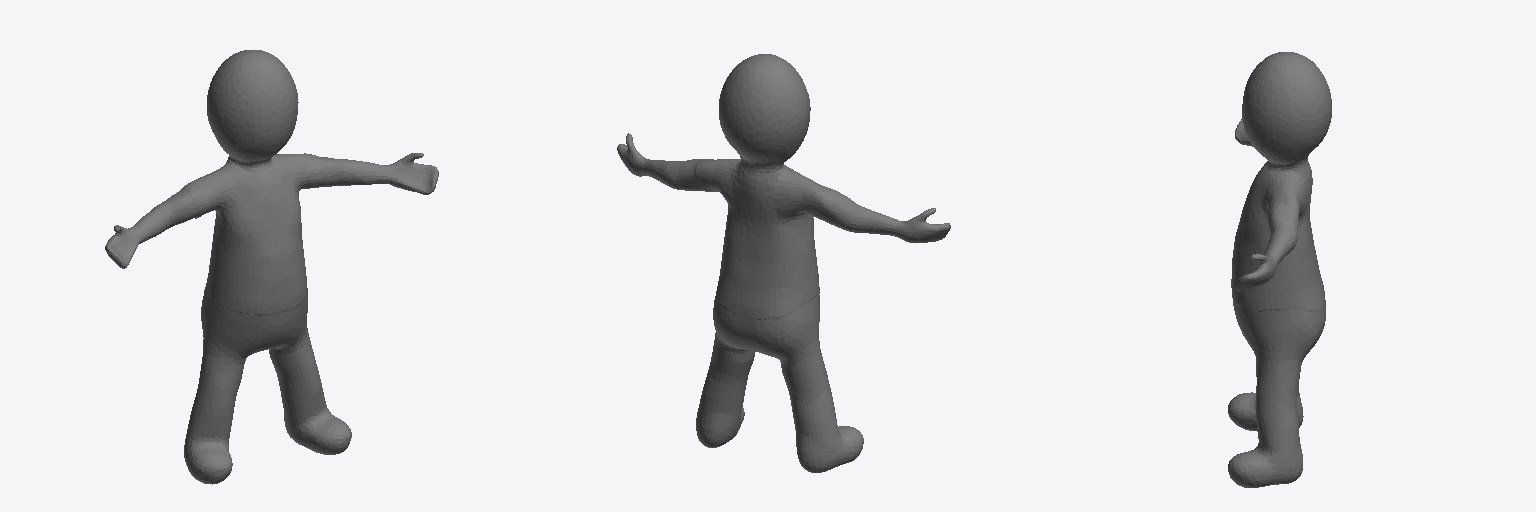
Rendered from Stick_Figure_by_Swp2.OBJ.
3 renders of one model, left to right at view 1: azimuth 30°, elevation 25°; view 2: azimuth 150°, elevation 25°; view 3: azimuth 270°, elevation 25°, orthographic.
Visible parts, largest first — view 1: Stick_Figure_by_Swp; view 2: Stick_Figure_by_Swp; view 3: Stick_Figure_by_Swp.
Boxes of the visible parts, x1=… form: Stick_Figure_by_Swp: x1=105, y1=50, x2=438, y2=484; Stick_Figure_by_Swp: x1=617, y1=54, x2=950, y2=472; Stick_Figure_by_Swp: x1=1228, y1=52, x2=1331, y2=487.
Bounding box in the file's own units: 1.05 × 1.22 × 0.2866.